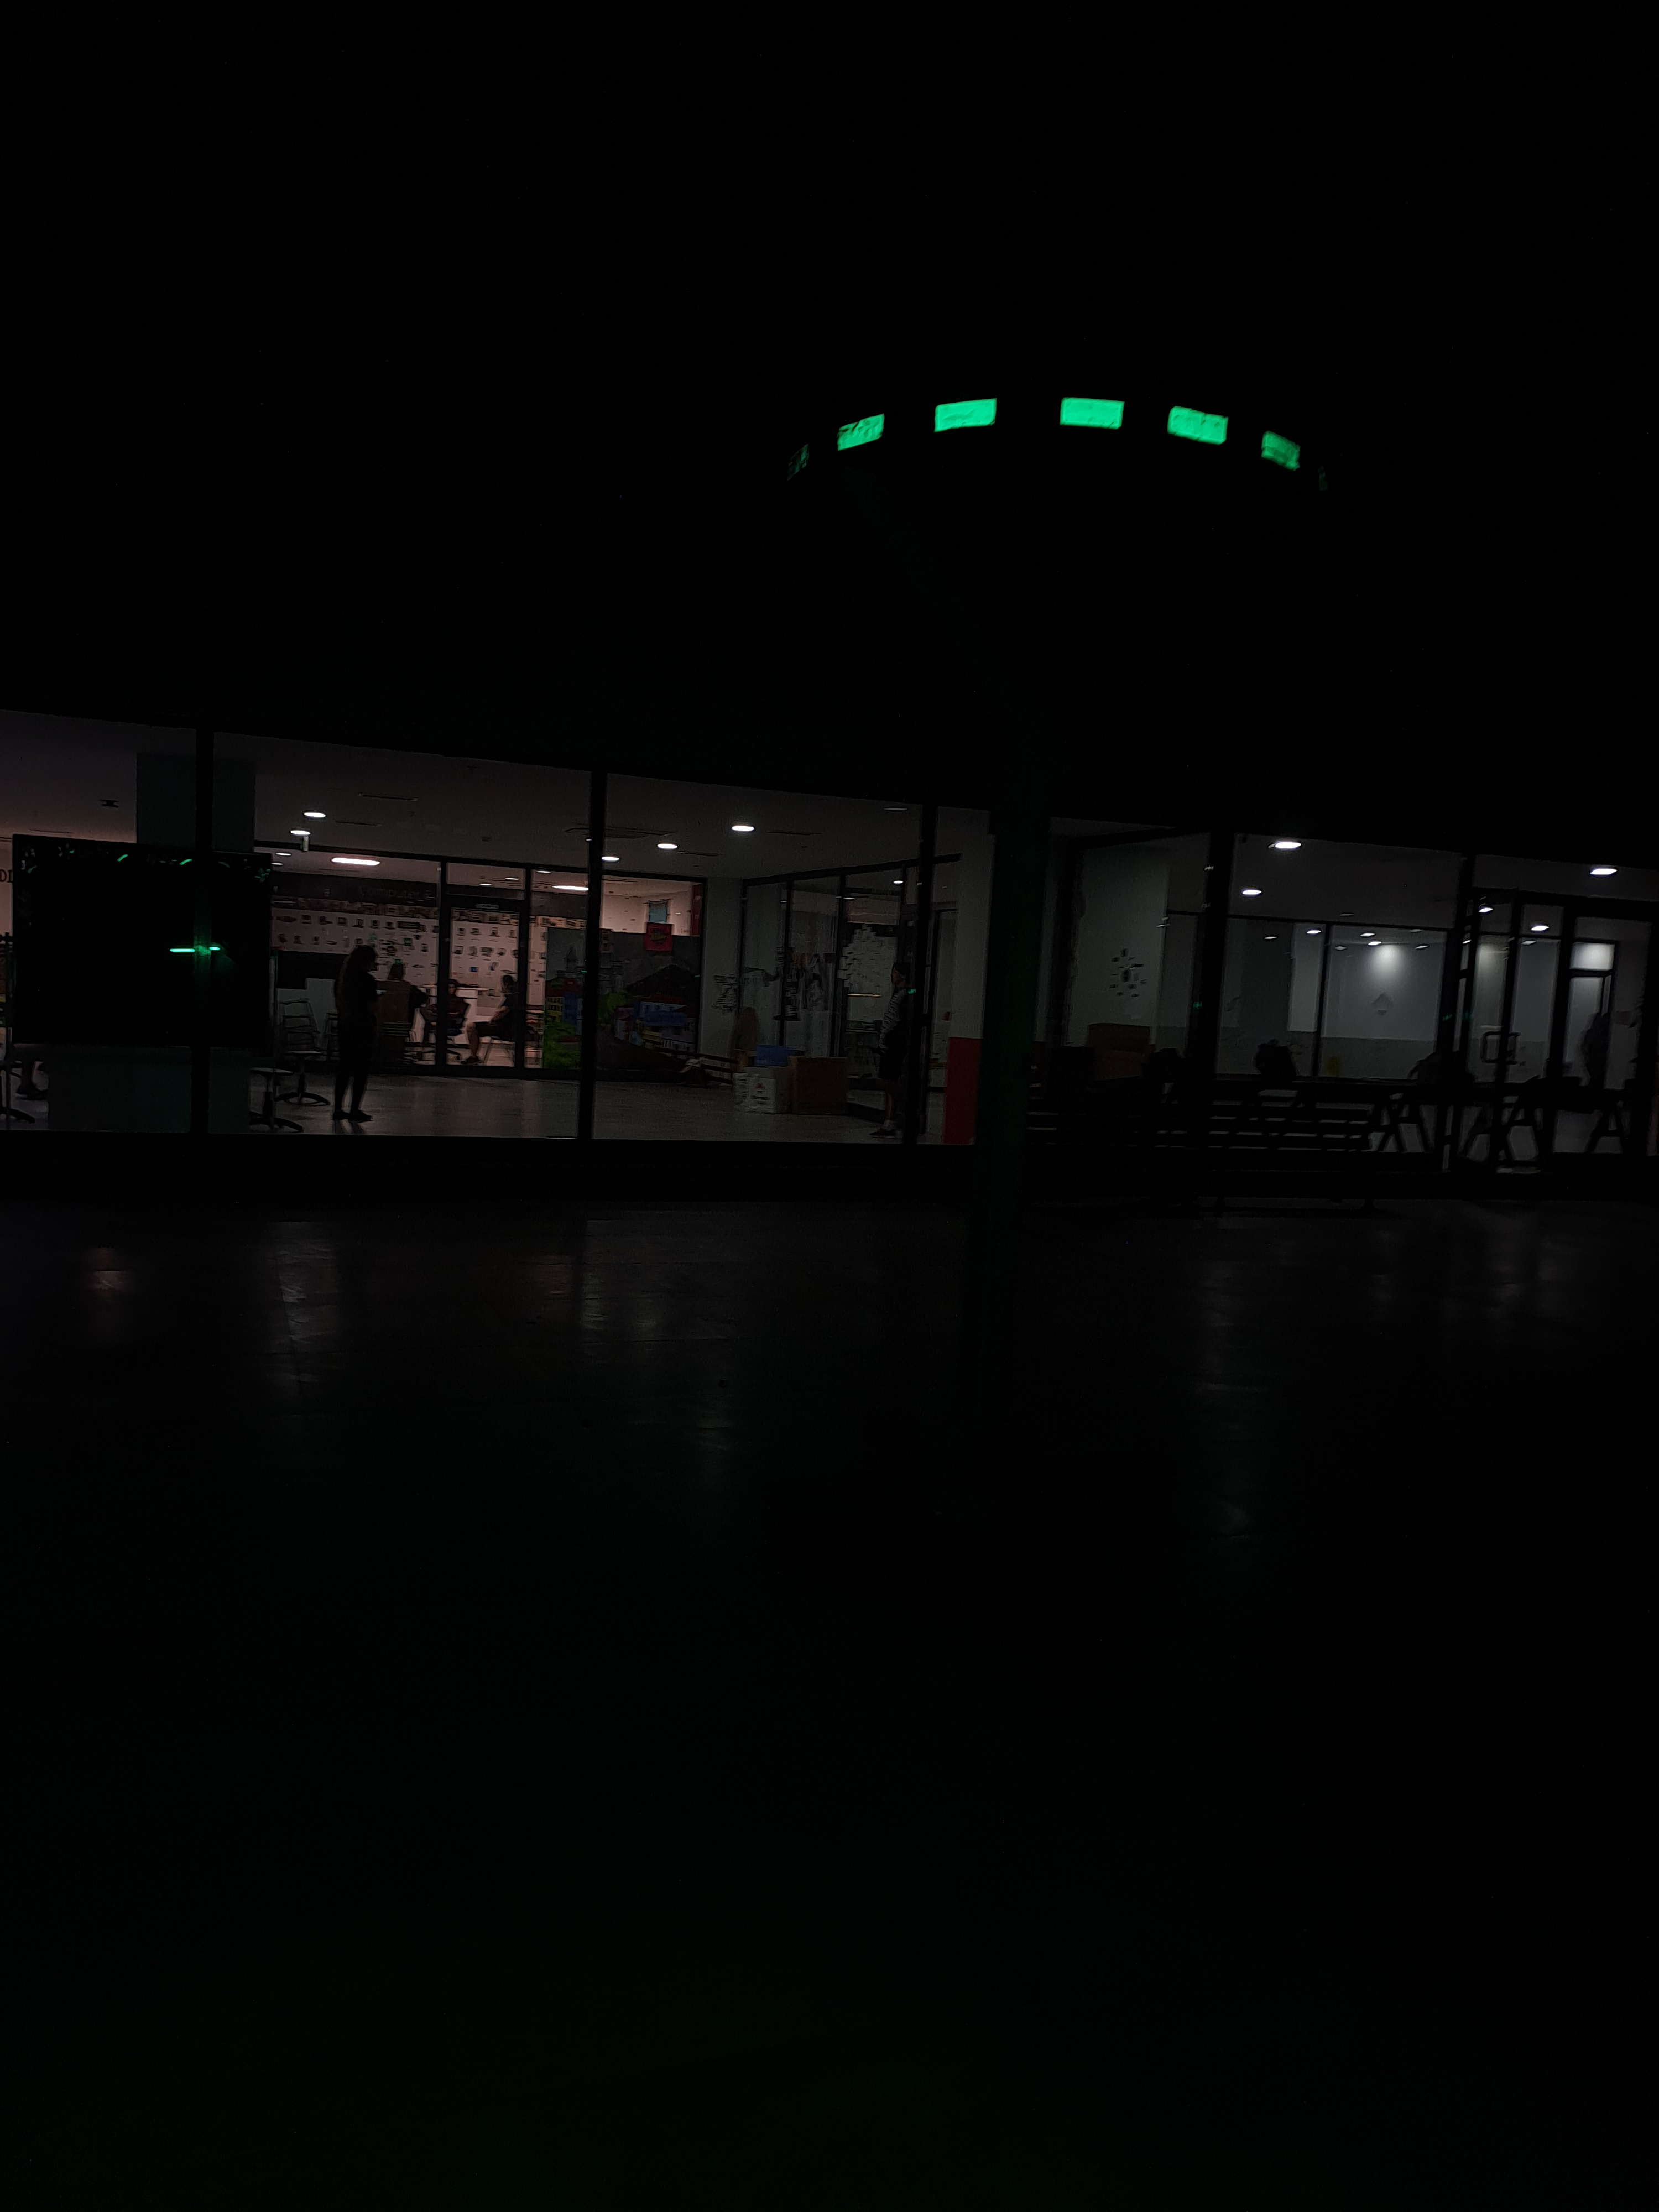hoop: (833, 388, 1303, 489)
